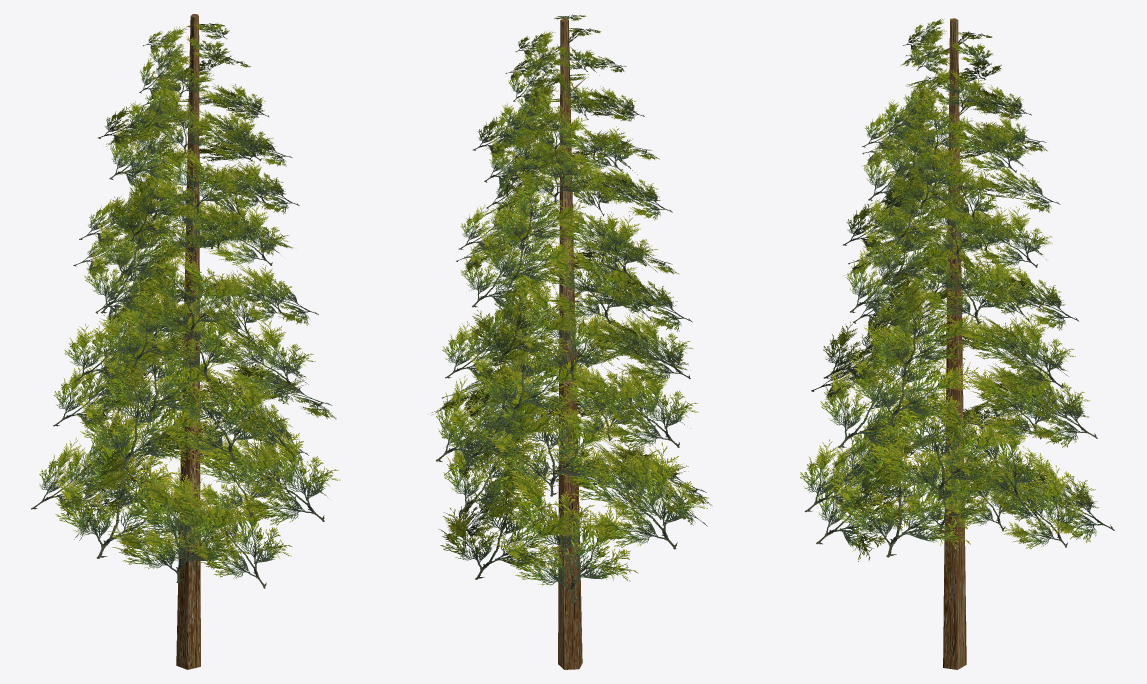
File: lod_tree.obj
3 views of the same model, side by side, from view 1: azimuth 30°, elevation 25°; view 2: azimuth 150°, elevation 25°; view 3: azimuth 270°, elevation 25° (orthographic).
Parts seen in each view (by area): view 1: Pine_1_3.001_Mesh.001; view 2: Pine_1_3.001_Mesh.001; view 3: Pine_1_3.001_Mesh.001.
Part boxes in pixels (left/top/right/bottom): Pine_1_3.001_Mesh.001: left=31, top=14, right=340, bottom=669; Pine_1_3.001_Mesh.001: left=431, top=14, right=712, bottom=669; Pine_1_3.001_Mesh.001: left=800, top=18, right=1114, bottom=669.
Bounding box in the file's own units: 5.12 × 10.4 × 5.29.
Materials: 2 (2 with a texture image).
